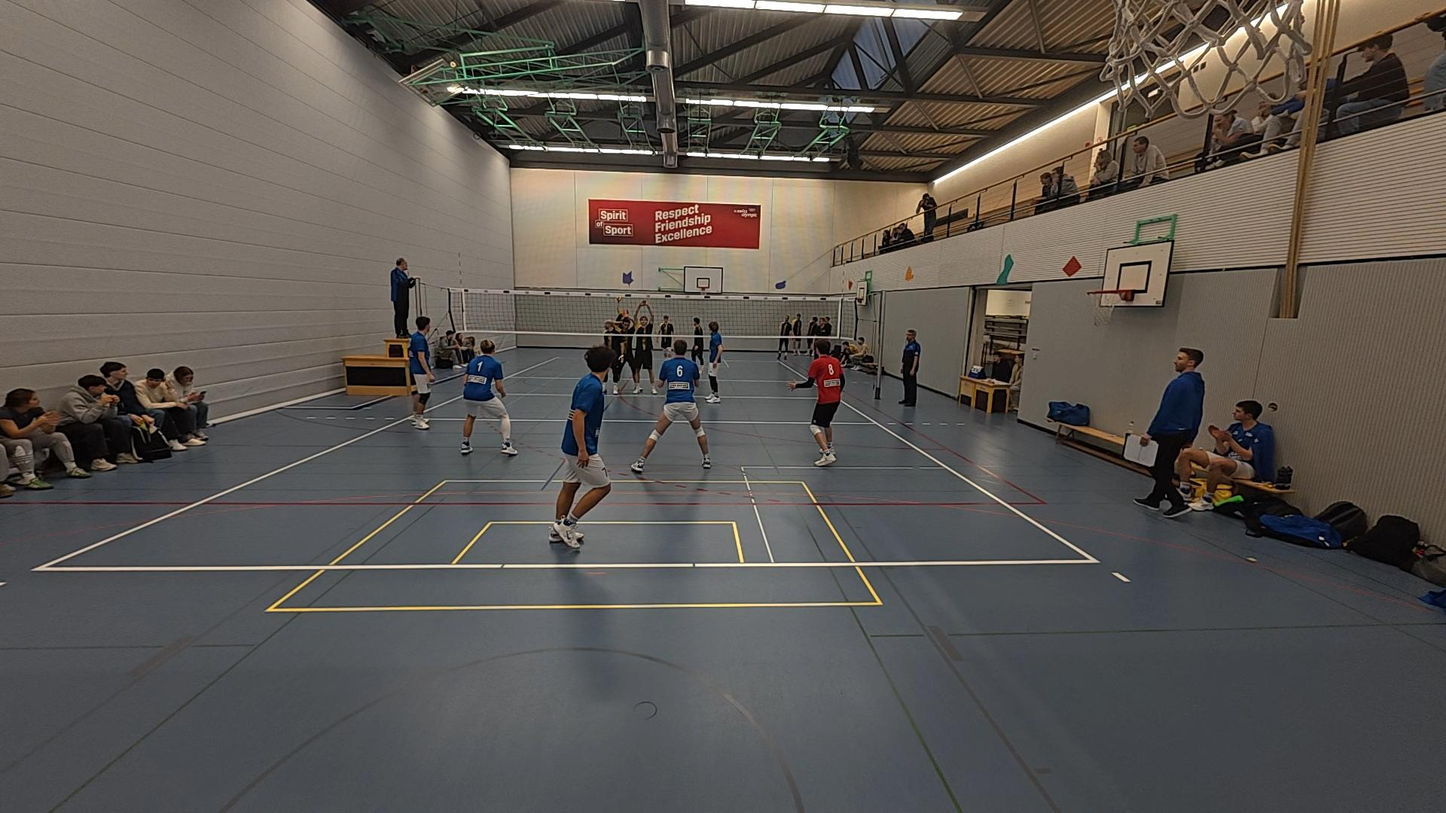Player: (548, 349, 612, 548), (630, 343, 712, 471), (789, 340, 844, 467), (459, 340, 515, 455), (406, 315, 436, 431), (627, 304, 654, 396), (604, 309, 632, 397), (700, 318, 725, 400), (682, 314, 708, 373), (653, 311, 673, 364)
Serve: (612, 296, 631, 324)
ball: (901, 264, 917, 282), (613, 292, 624, 304)
